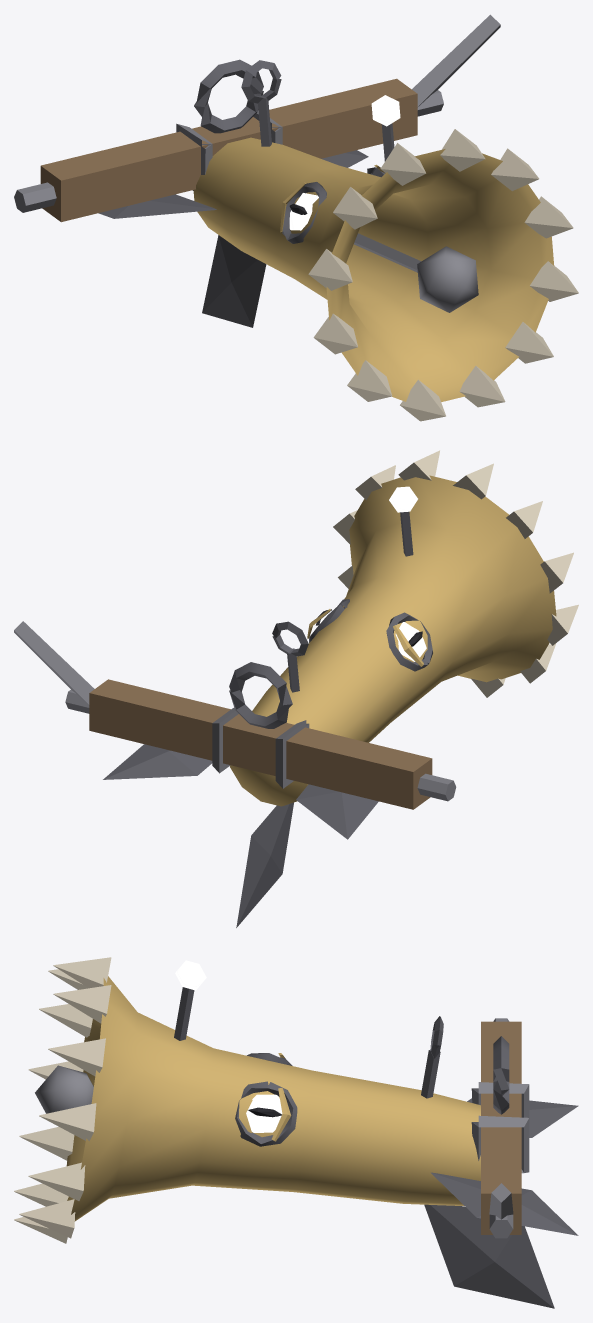
File: bell-carrying-bell.glb
3 views of the same model, one above another, from view 1: azimuth 30°, elevation 25°; view 2: azimuth 150°, elevation 25°; view 3: azimuth 270°, elevation 25° (orthographic). The views are drawn at different scales.
Parts seen in each view (by area): view 1: bell_carrying_bell; view 2: bell_carrying_bell; view 3: bell_carrying_bell.
Part boxes in pixels (x1,y1,x2,y2): bell_carrying_bell: (14, 14, 578, 421); bell_carrying_bell: (14, 450, 578, 927); bell_carrying_bell: (14, 957, 578, 1308).
Size of the model in its own units: 1.13 by 0.7862 by 1.16.
